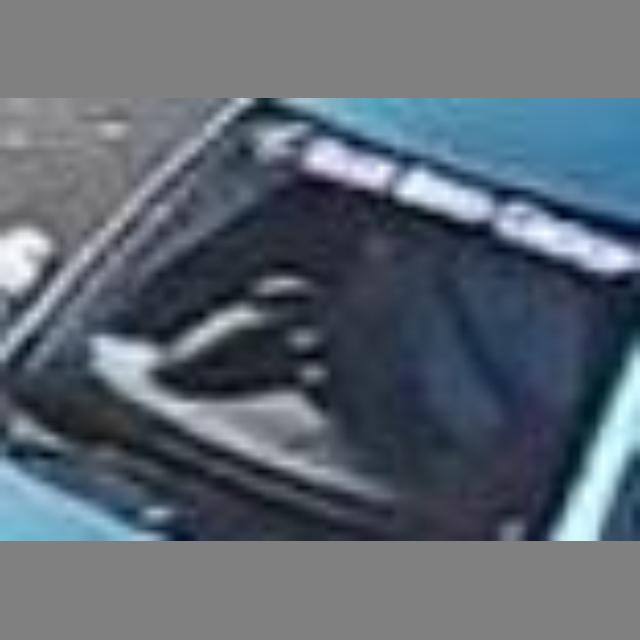pakai: (361, 205, 574, 451)
